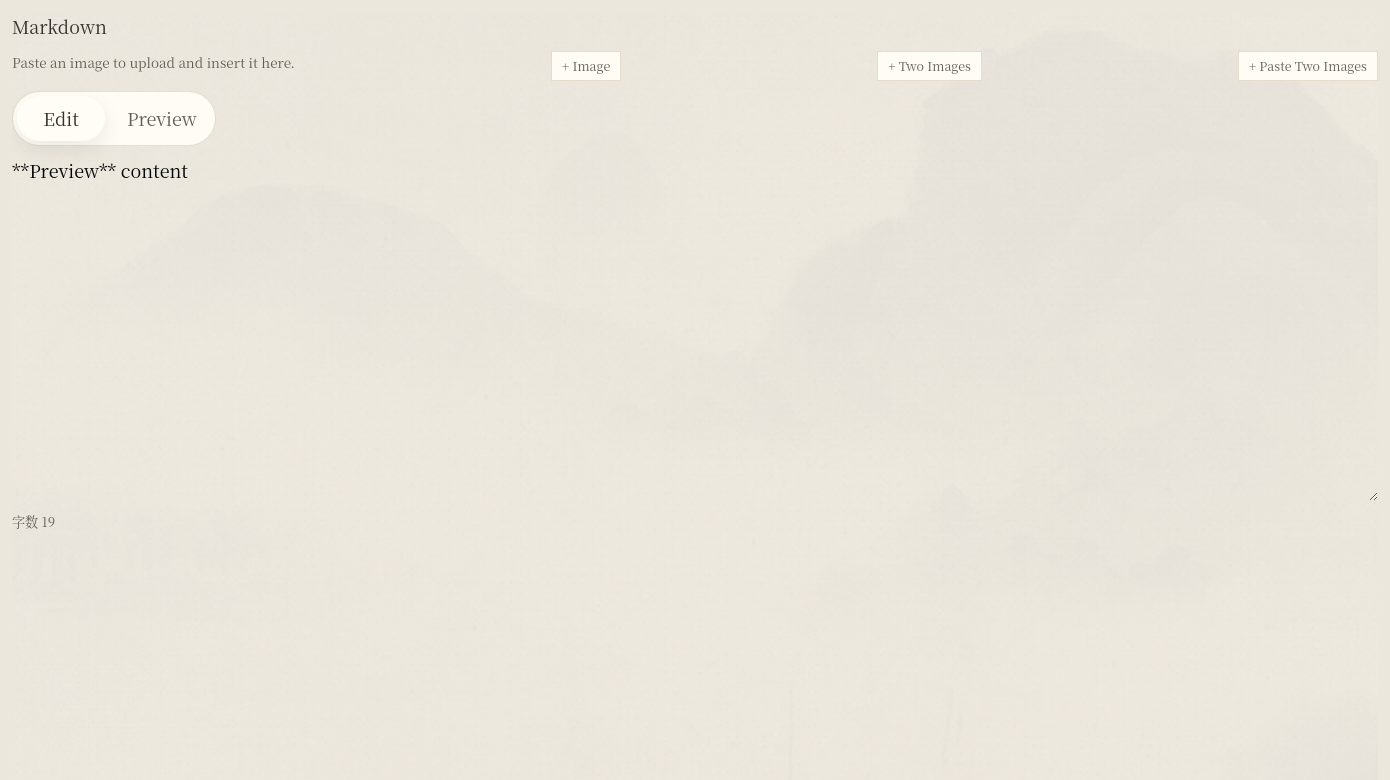
Test case: MarkdownEditorField › switches from edit to preview and renders returned html
This screenshot has width=1390, height=780.
Click the tab "Preview" at {"x": 162, "y": 118}, box [113,96,211,141]
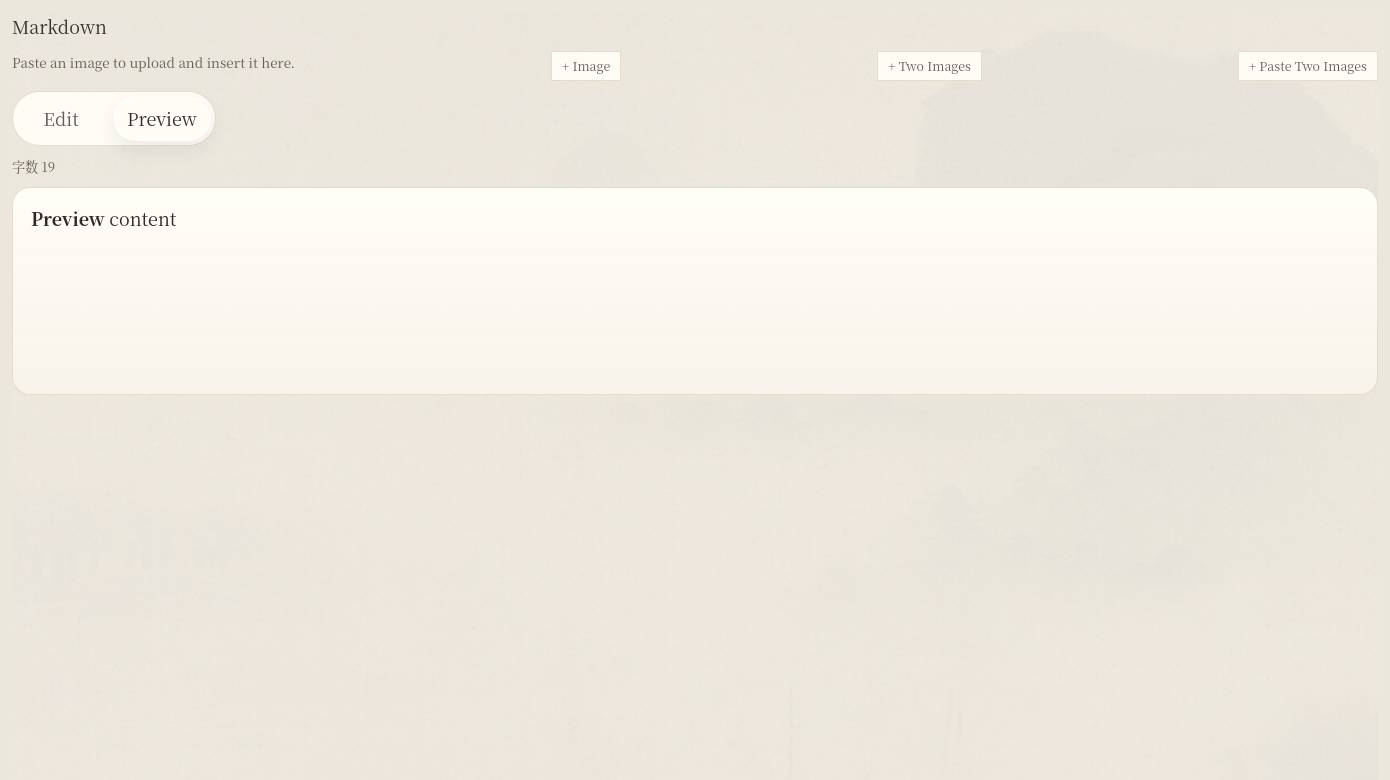
Check: the element with test id "markdown-preview-content" reads "Preview content", box [31,205,176,231]
